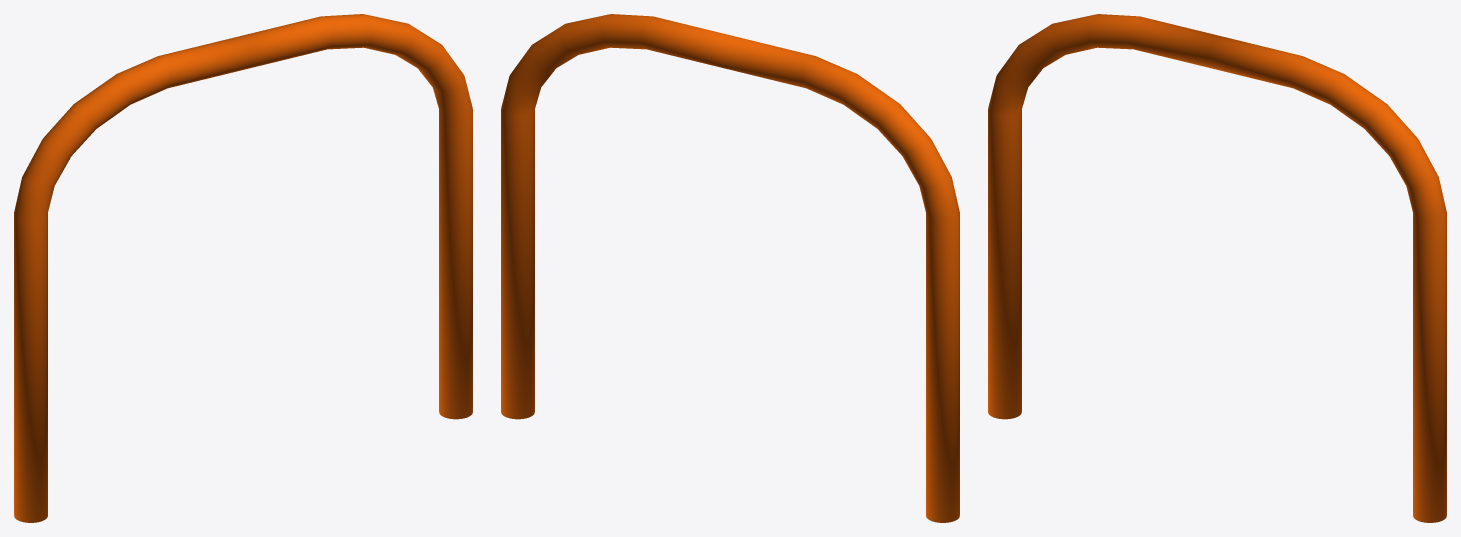
File: PuertaJardin.fbx
The picture shows the model from 3 angles, left to right: view 1: azimuth 30°, elevation 25°; view 2: azimuth 150°, elevation 25°; view 3: azimuth 330°, elevation 25°; orthographic projection.
Visible parts, largest first — view 1: Cylinder; view 2: Cylinder; view 3: Cylinder.
Part boxes in pixels (<box>): Cylinder: <box>14,14,472,522</box>; Cylinder: <box>501,14,959,522</box>; Cylinder: <box>988,14,1446,522</box>.
Bounding box in the file's own units: 972 × 873 × 62.62.
